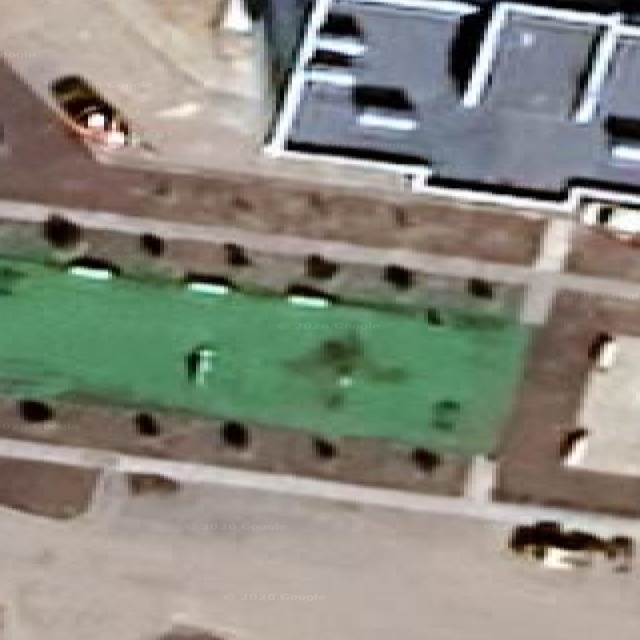car: (508, 520, 632, 569), (51, 75, 128, 147), (584, 201, 639, 240)
